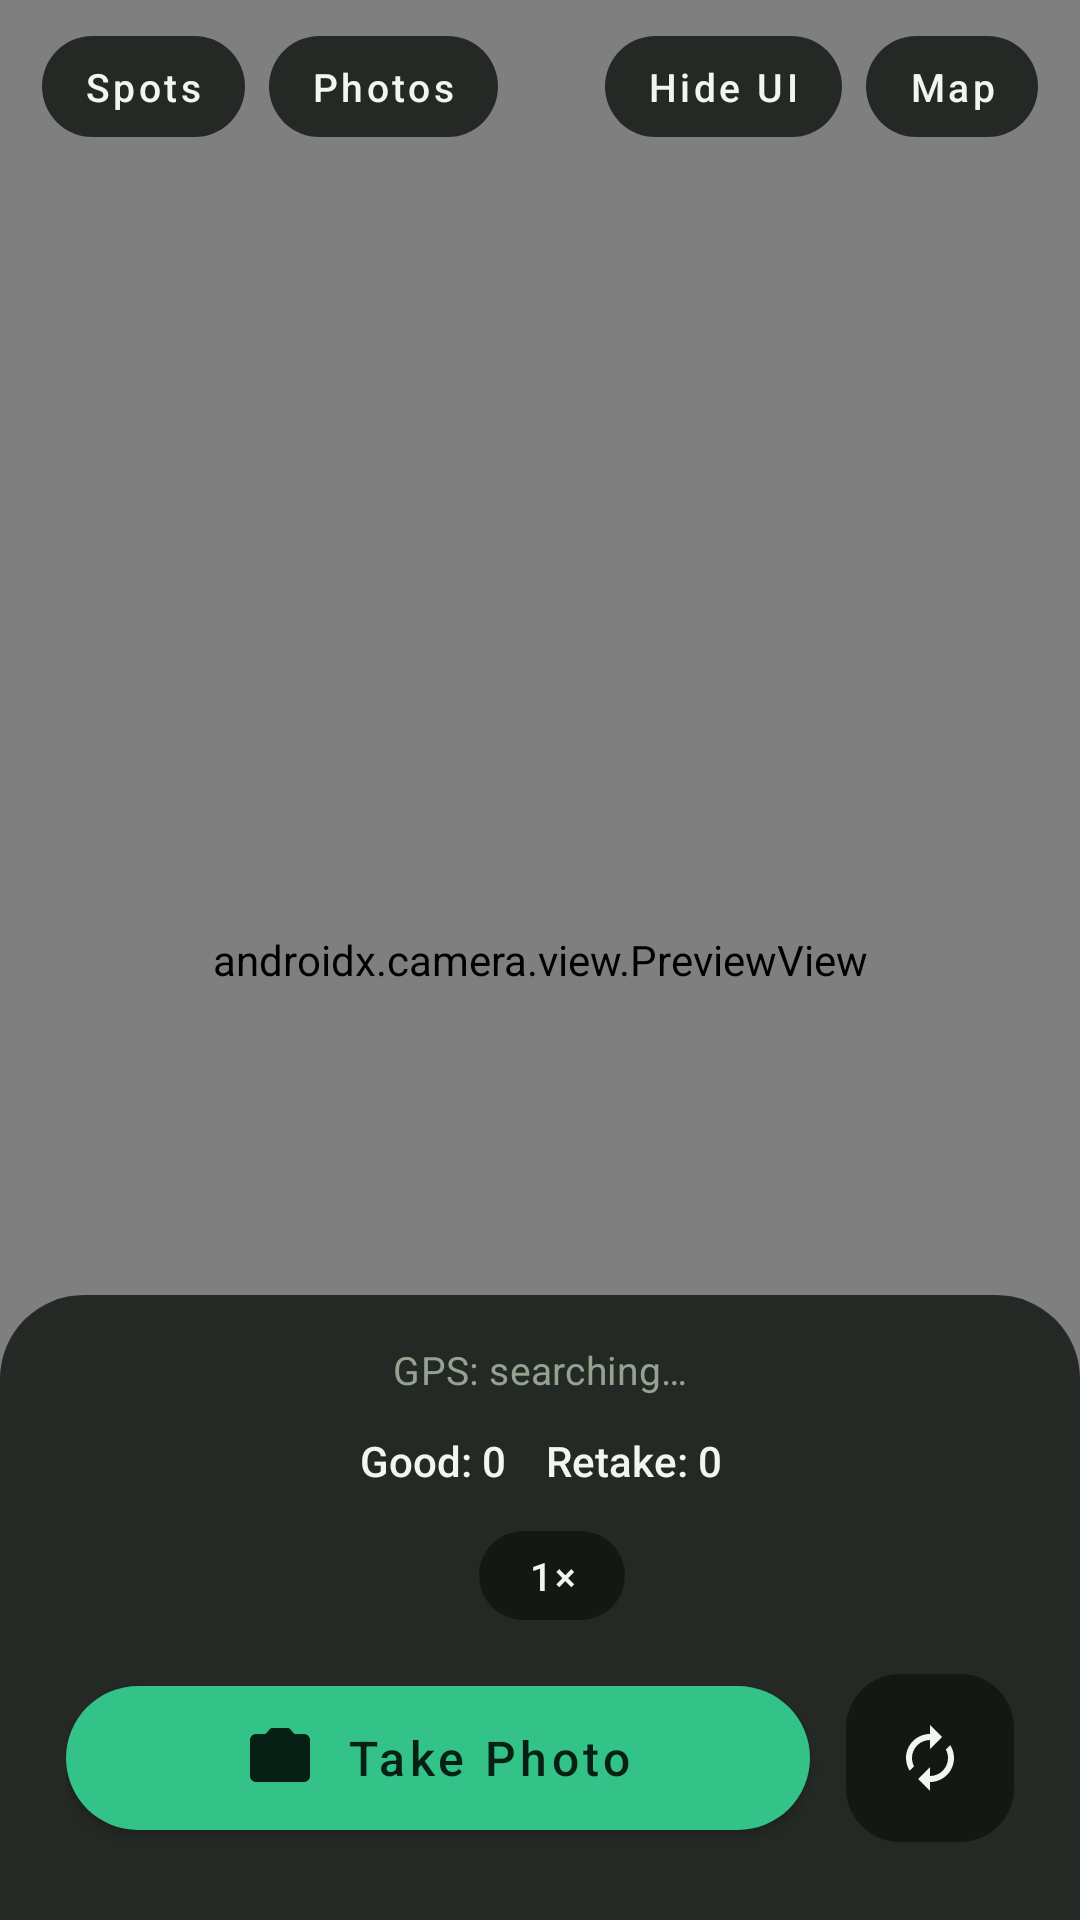

Named icons in this screenshot (1080 × 1920) and their centers, point (x, y):
Switch camera: point (930, 1758)
